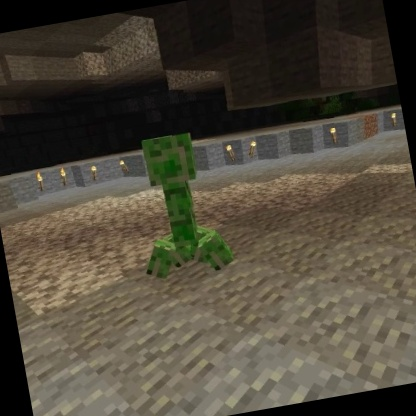creeper: (119, 122, 241, 287)
